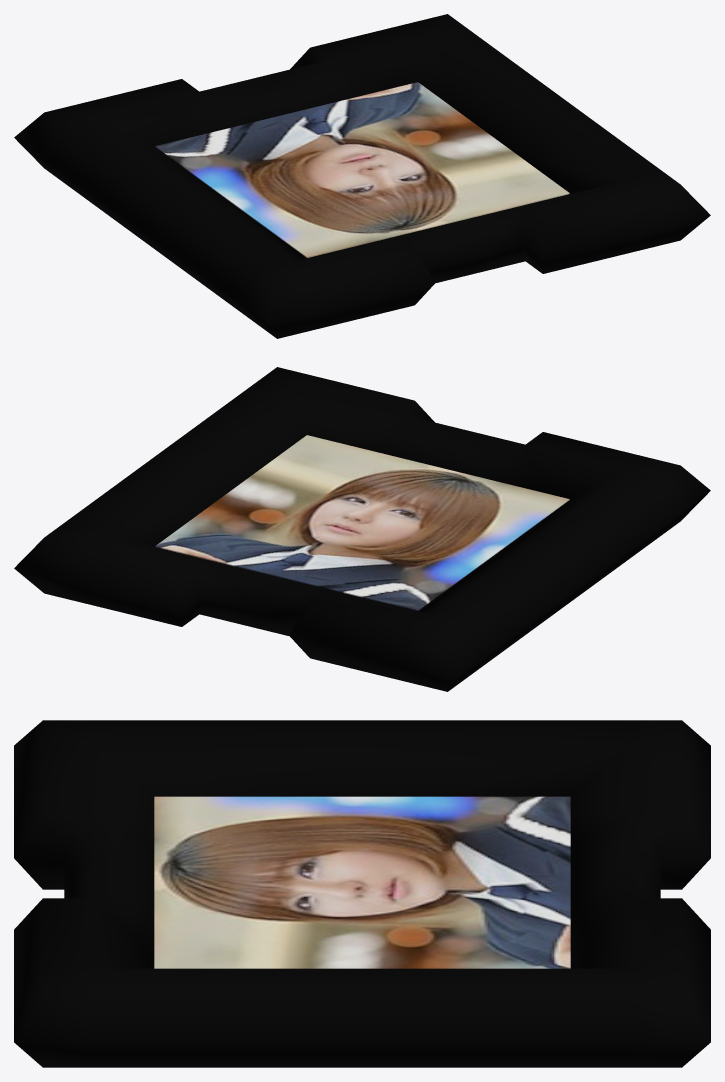
Rendered from FriendJail.FBX.
3 views of the same model, one above another, from view 1: azimuth 30°, elevation 25°; view 2: azimuth 150°, elevation 25°; view 3: azimuth 270°, elevation 25° (orthographic). The views are drawn at different scales.
Visible parts, largest first — view 1: FriendJail02, FriendJail01; view 2: FriendJail02, FriendJail01; view 3: FriendJail02, FriendJail01.
Boxes of the visible parts, left/top/right/bottom form: FriendJail02: left=14, top=14, right=710, bottom=338; FriendJail01: left=155, top=82, right=569, bottom=257; FriendJail02: left=14, top=367, right=710, bottom=691; FriendJail01: left=155, top=435, right=569, bottom=610; FriendJail02: left=14, top=720, right=710, bottom=1067; FriendJail01: left=154, top=796, right=570, bottom=968.
Size of the model in its own units: 3.37 by 3.35 by 0.4078.
2 materials, 2 textured.
